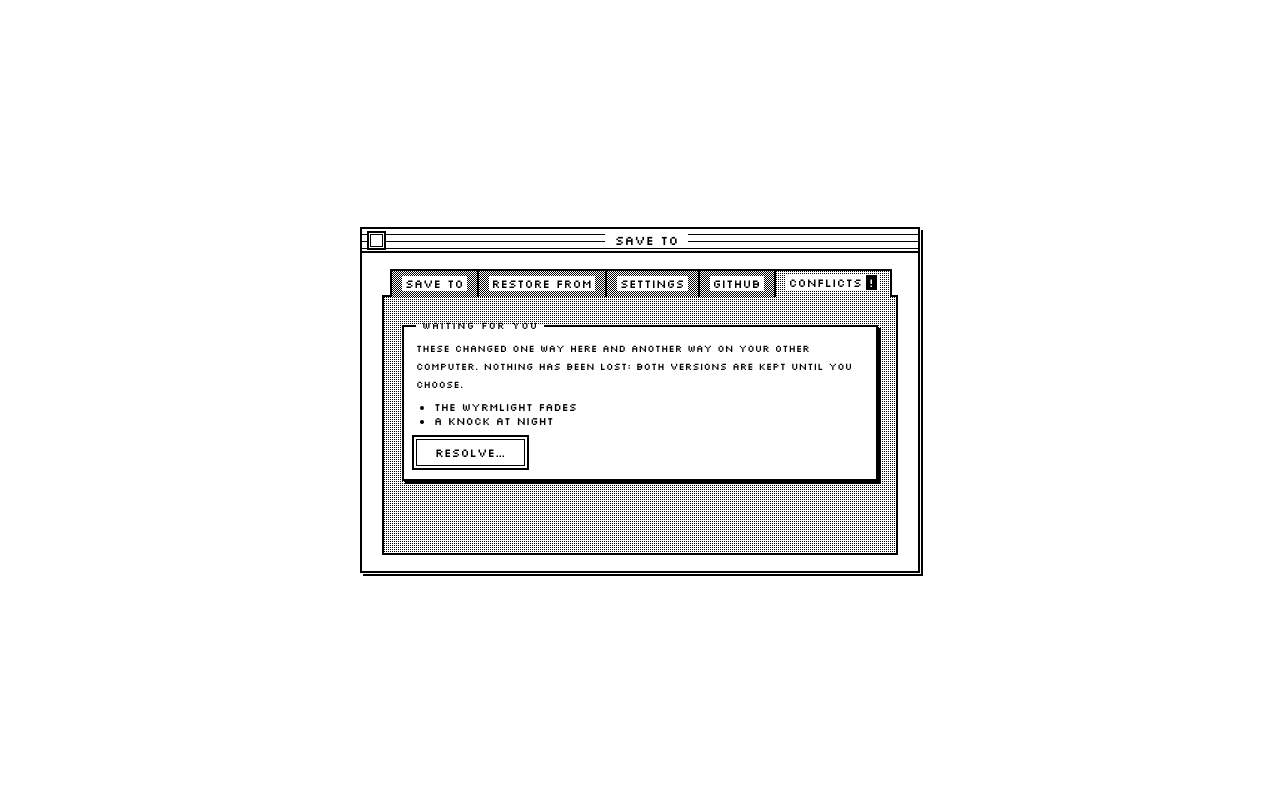
Test case: the Conflicts tab › says so when, looking again, nothing is waiting any more
Click the button "Resolve…".
click(470, 452)  # box x1=416 y1=439 x2=524 y2=466
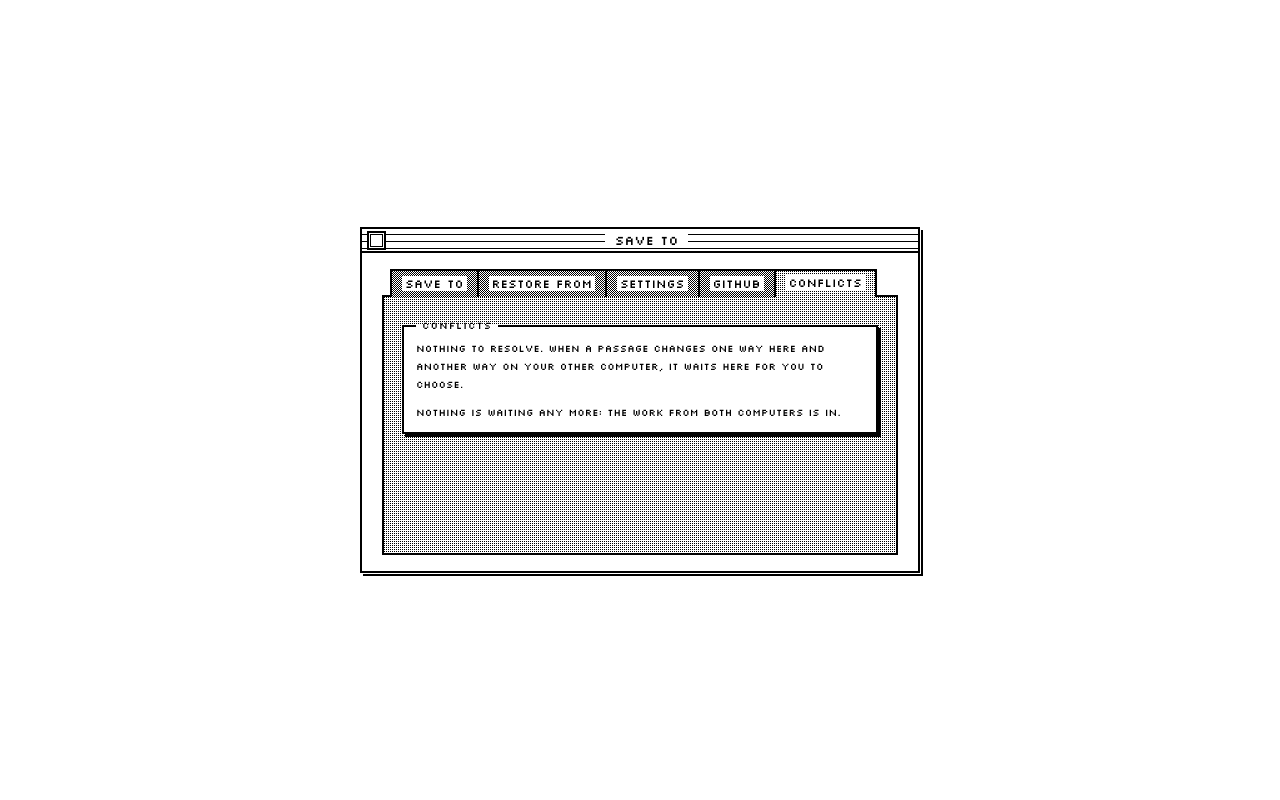
Expected: the text "Nothing is waiting any more: the work from both computers is in." is shown, x1=416 y1=404 x2=864 y2=422
